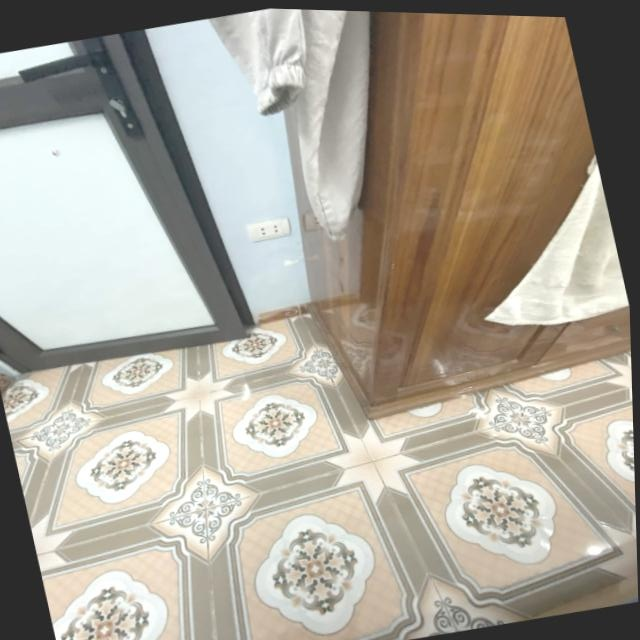outlet: (246, 216, 293, 246)
